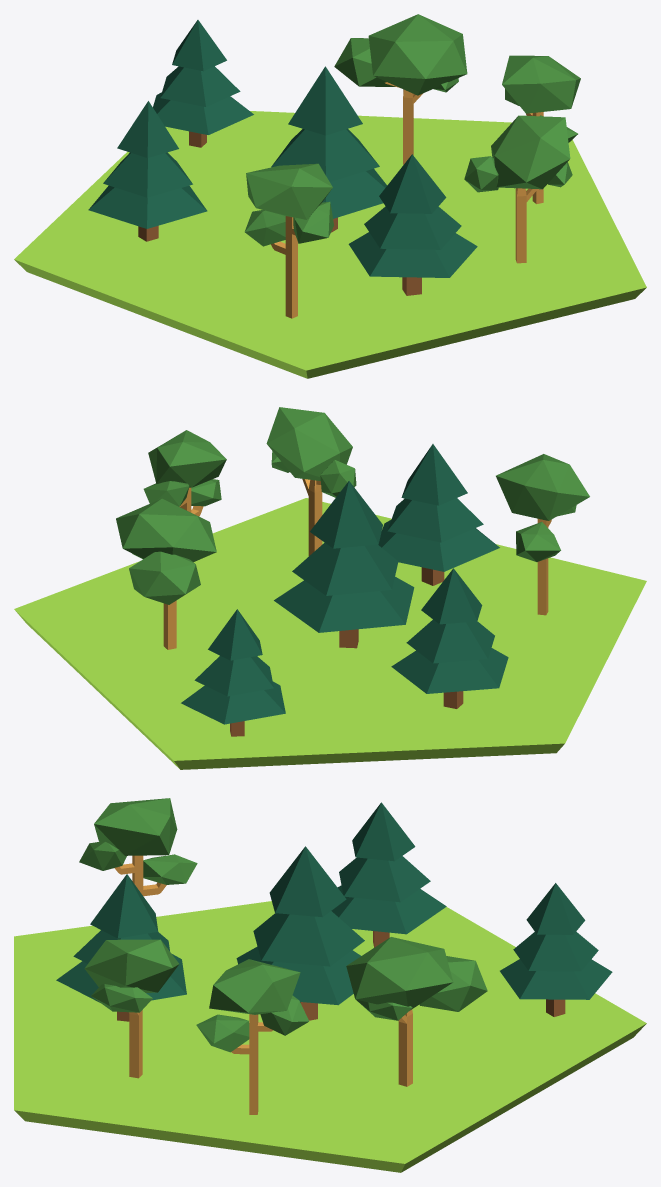
File: TuileForestMix2.fbx
3 renders of one model, top to bottom at view 1: azimuth 30°, elevation 25°; view 2: azimuth 150°, elevation 25°; view 3: azimuth 270°, elevation 25°, orthographic. The views are drawn at different scales.
Visible parts, largest first — view 1: origine.001; view 2: origine.001; view 3: origine.001.
Boxes of the visible parts, x1=… form: origine.001: x1=14, y1=14, x2=646, y2=378; origine.001: x1=14, y1=407, x2=646, y2=769; origine.001: x1=14, y1=798, x2=646, y2=1172.
Bounding box in the file's own units: 111 × 34.07 × 105.
